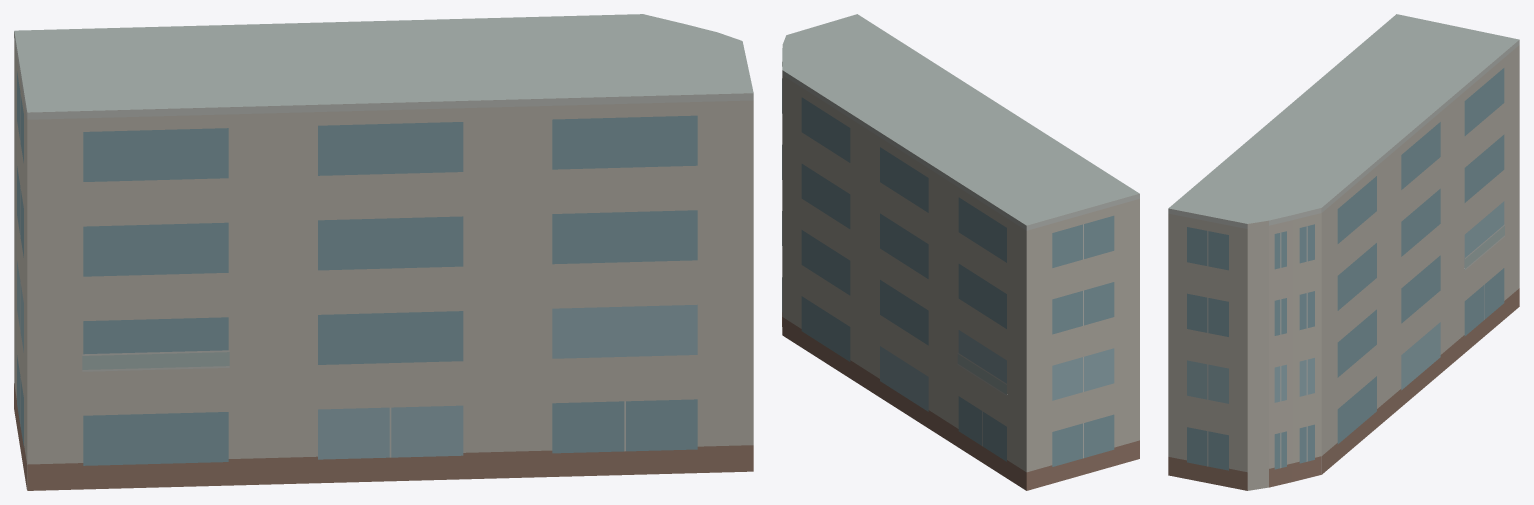
File: survey-upis-33003875.glb
3 views of the same model, side by side, from view 1: azimuth 30°, elevation 25°; view 2: azimuth 150°, elevation 25°; view 3: azimuth 270°, elevation 25° (orthographic). The views are drawn at different scales.
Visible parts, largest first — view 1: survey-upis-33003875.tmp; view 2: survey-upis-33003875.tmp; view 3: survey-upis-33003875.tmp.
Part boxes in pixels (x1=…): survey-upis-33003875.tmp: x1=14, y1=14, x2=753, y2=490; survey-upis-33003875.tmp: x1=782, y1=14, x2=1139, y2=490; survey-upis-33003875.tmp: x1=1168, y1=14, x2=1519, y2=490.
Size of the model in its own units: 21.43 by 12.7 by 15.16.
